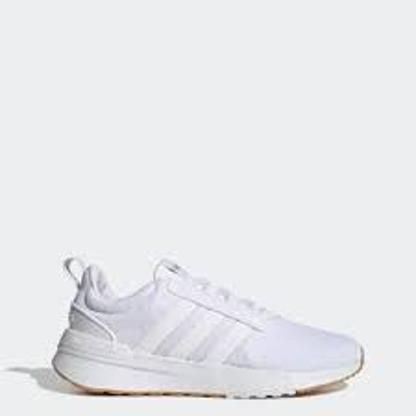not trash: (38, 256, 369, 406)
